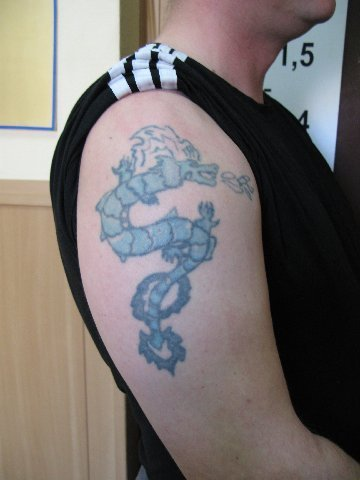tatu6_drakon: (91, 119, 267, 384)
